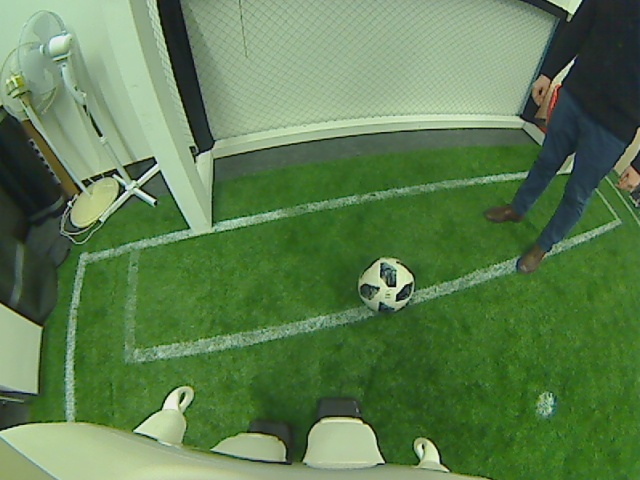ball: (358, 257, 414, 314)
